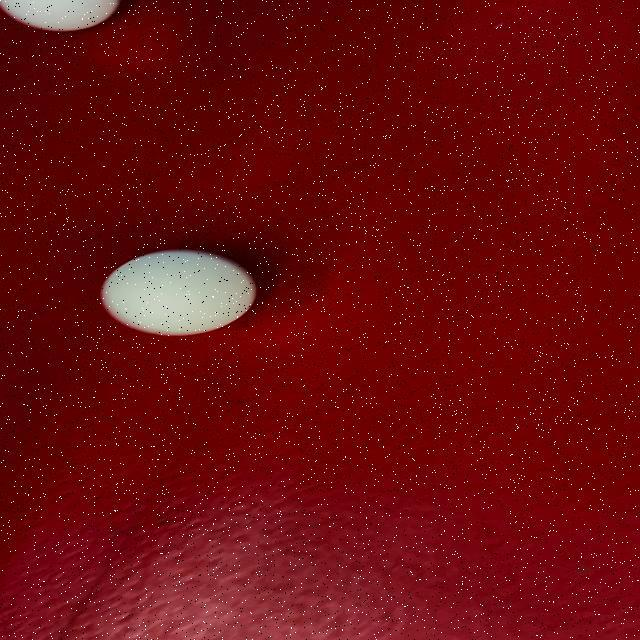ping-pong-ball: (76, 237, 286, 345), (0, 0, 164, 50)
